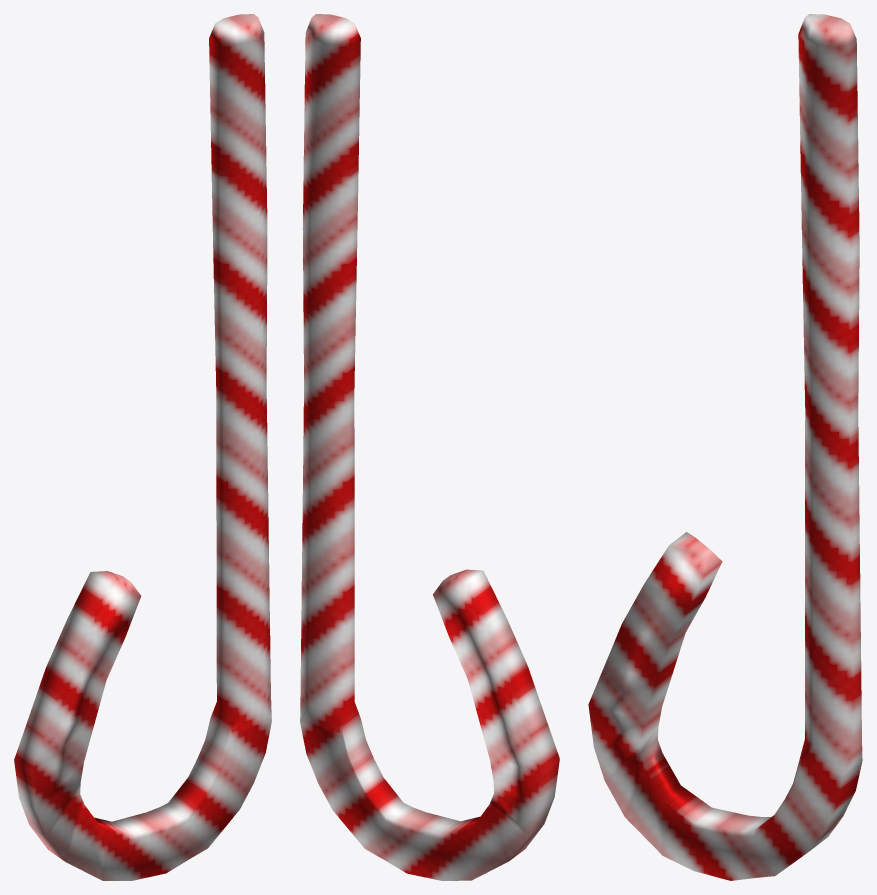
File: CandyCane.fbx
The picture shows the model from 3 angles, left to right: view 1: azimuth 30°, elevation 25°; view 2: azimuth 150°, elevation 25°; view 3: azimuth 330°, elevation 25°; orthographic projection. The views are drawn at different scales.
Visible parts, largest first — view 1: Cube; view 2: Cube; view 3: Cube.
Part boxes in pixels (left/top/right/bottom): Cube: left=14, top=14, right=271, bottom=880; Cube: left=300, top=14, right=559, bottom=880; Cube: left=588, top=14, right=862, bottom=880.
Bounding box in the file's own units: 0.3401 × 1.09 × 0.0508.
